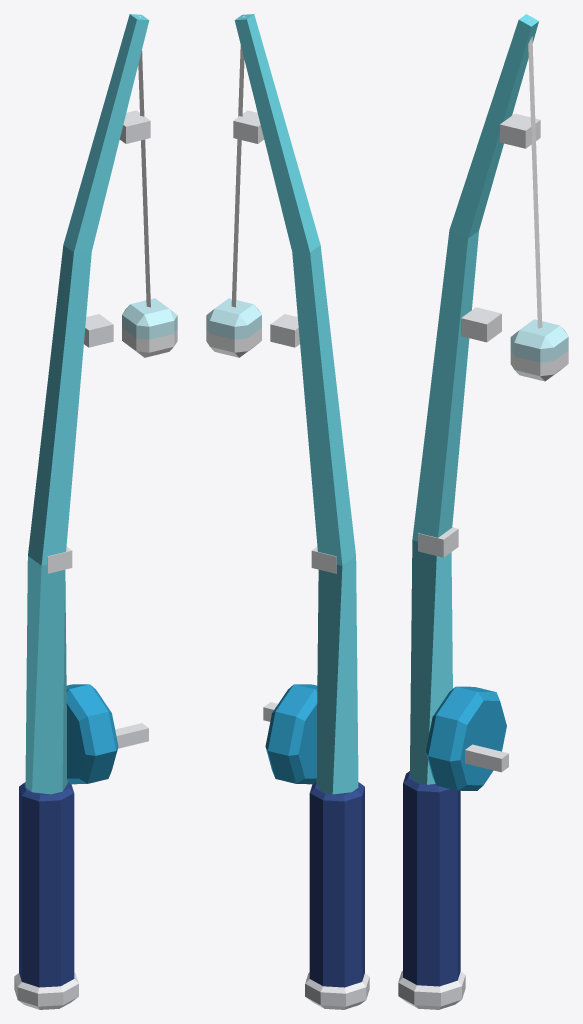
Rendered from DiamondFishingRod.fbx.
3 views of the same model, side by side, from view 1: azimuth 30°, elevation 25°; view 2: azimuth 150°, elevation 25°; view 3: azimuth 330°, elevation 25° (orthographic). The views are drawn at different scales.
Parts seen in each view (by area): view 1: DiamondFishingRod; view 2: DiamondFishingRod; view 3: DiamondFishingRod.
Part boxes in pixels (bbox=[...]): DiamondFishingRod: bbox=[14, 14, 177, 1009]; DiamondFishingRod: bbox=[206, 14, 369, 1009]; DiamondFishingRod: bbox=[398, 14, 568, 1009].
Size of the model in its own units: 0.74 by 4.45 by 0.44.
Materials: 1 (1 with a texture image).
